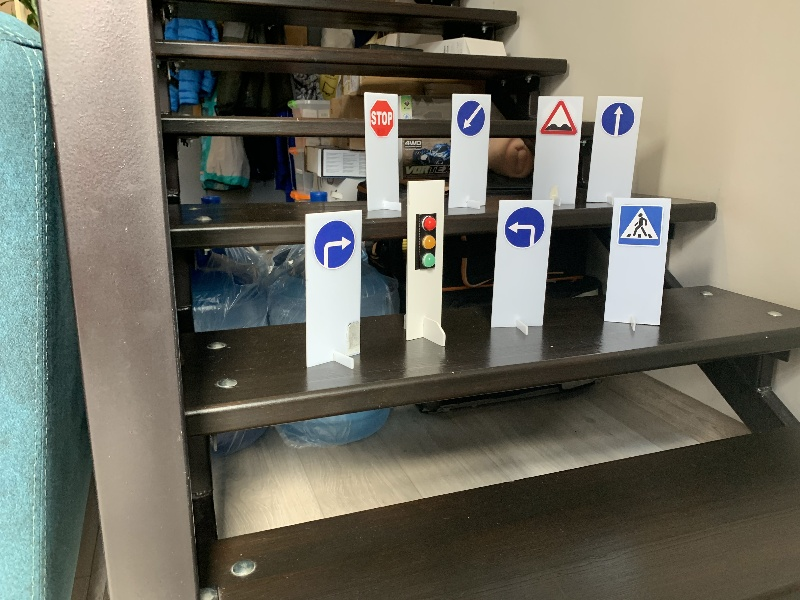Left: (502, 206, 546, 247)
Nerov: (540, 101, 576, 136)
Right: (313, 218, 357, 269)
Stop: (370, 99, 394, 136)
forw: (600, 102, 635, 137)
pesh: (615, 203, 664, 250)
prep: (458, 99, 484, 135)
